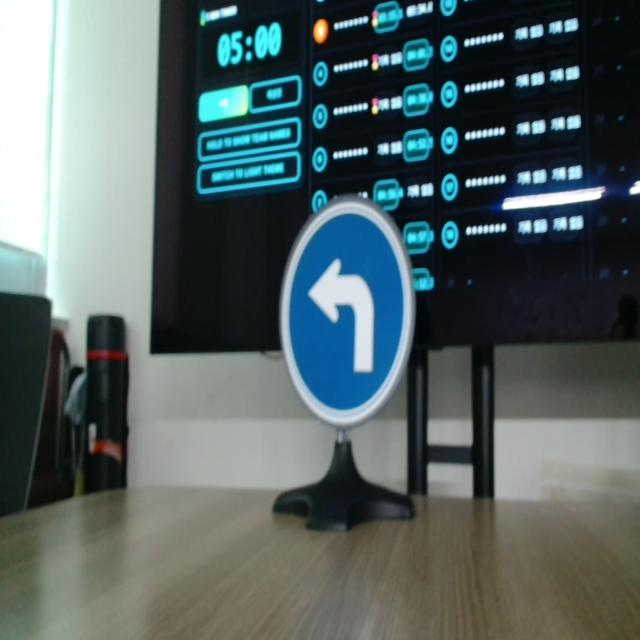left_direction: (274, 195, 418, 431)
